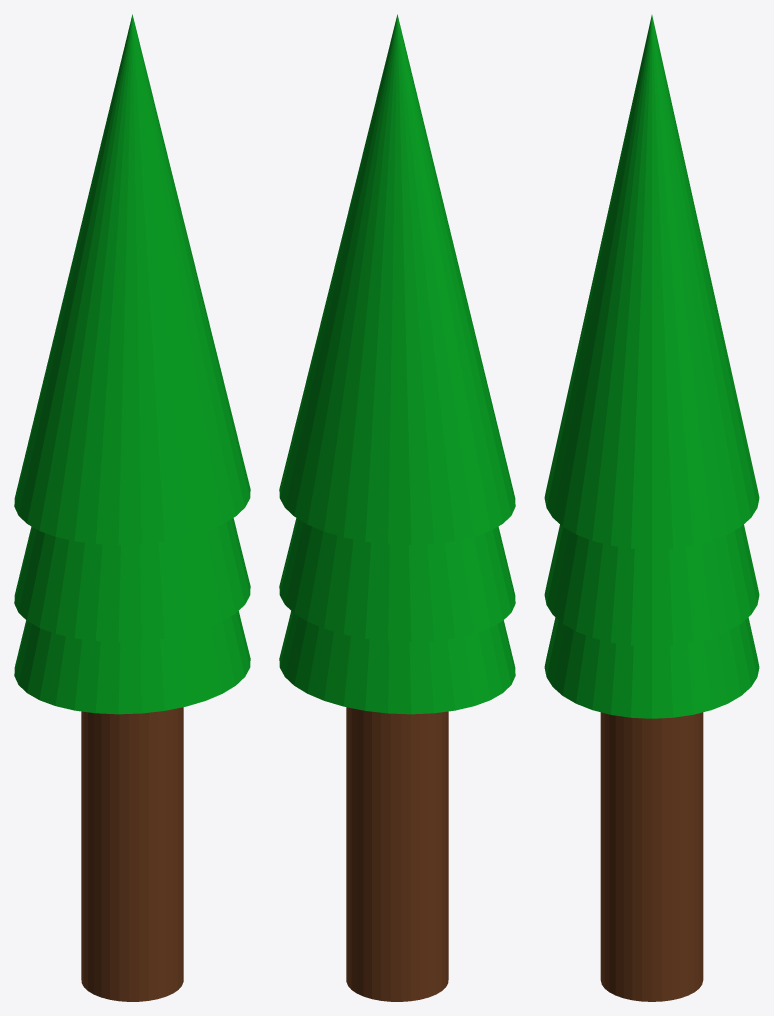
The model's file is Arvore2.fbx.
3 views of the same model, side by side, from view 1: azimuth 30°, elevation 25°; view 2: azimuth 150°, elevation 25°; view 3: azimuth 270°, elevation 25° (orthographic).
Parts seen in each view (by area): view 1: Cone.001, Cylinder, Cone.002, Cone; view 2: Cone.001, Cylinder, Cone.002, Cone; view 3: Cone.001, Cylinder, Cone.002, Cone.
Boxes of the visible parts, box(x1,y1,x2,y2) form: Cone.001: box(14, 14, 250, 544); Cylinder: box(81, 707, 183, 1001); Cone.002: box(14, 518, 250, 641); Cone: box(14, 611, 250, 714); Cone.001: box(279, 14, 515, 544); Cylinder: box(346, 707, 448, 1001); Cone.002: box(279, 518, 515, 641); Cone: box(279, 611, 515, 714); Cone.001: box(544, 15, 759, 549); Cylinder: box(600, 712, 703, 1001); Cone.002: box(544, 524, 759, 646); Cone: box(544, 617, 759, 718).
Size of the model in its own units: 476 by 2082 by 420.
